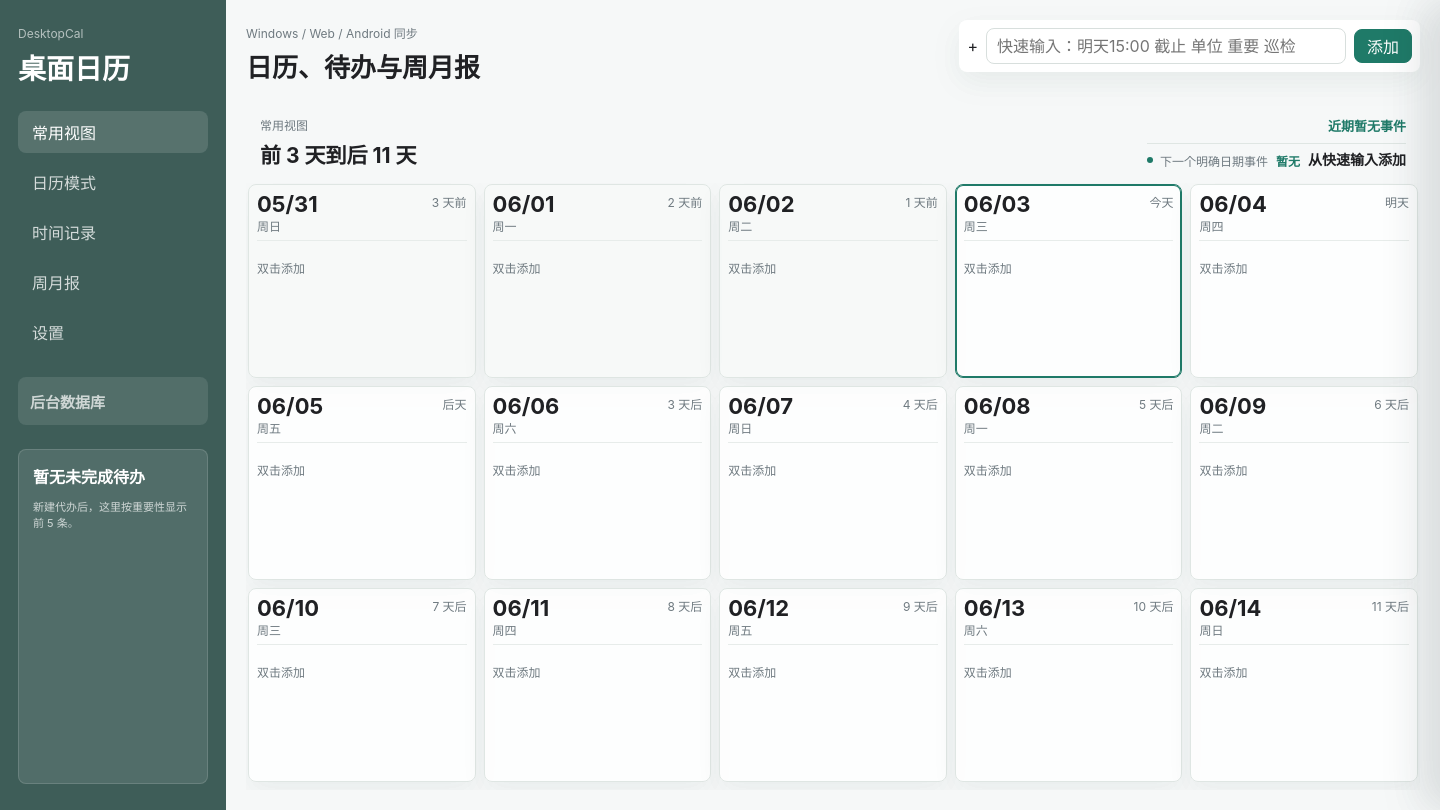
Test: App event interactions › parses compact weekday, afternoon time, kind, source, and importance locally
The width and height of the screenshot is (1440, 810).
Expected: the text "近期暂无事件" is shown, x1=1328 y1=116 x2=1406 y2=135
Type "下周五下午3点截止单位重要巡检材料" into the field named "Quick add title".
click(1166, 46); type("下周五下午3点截止单位重要巡检材料")  # box x1=986 y1=28 x2=1346 y2=64
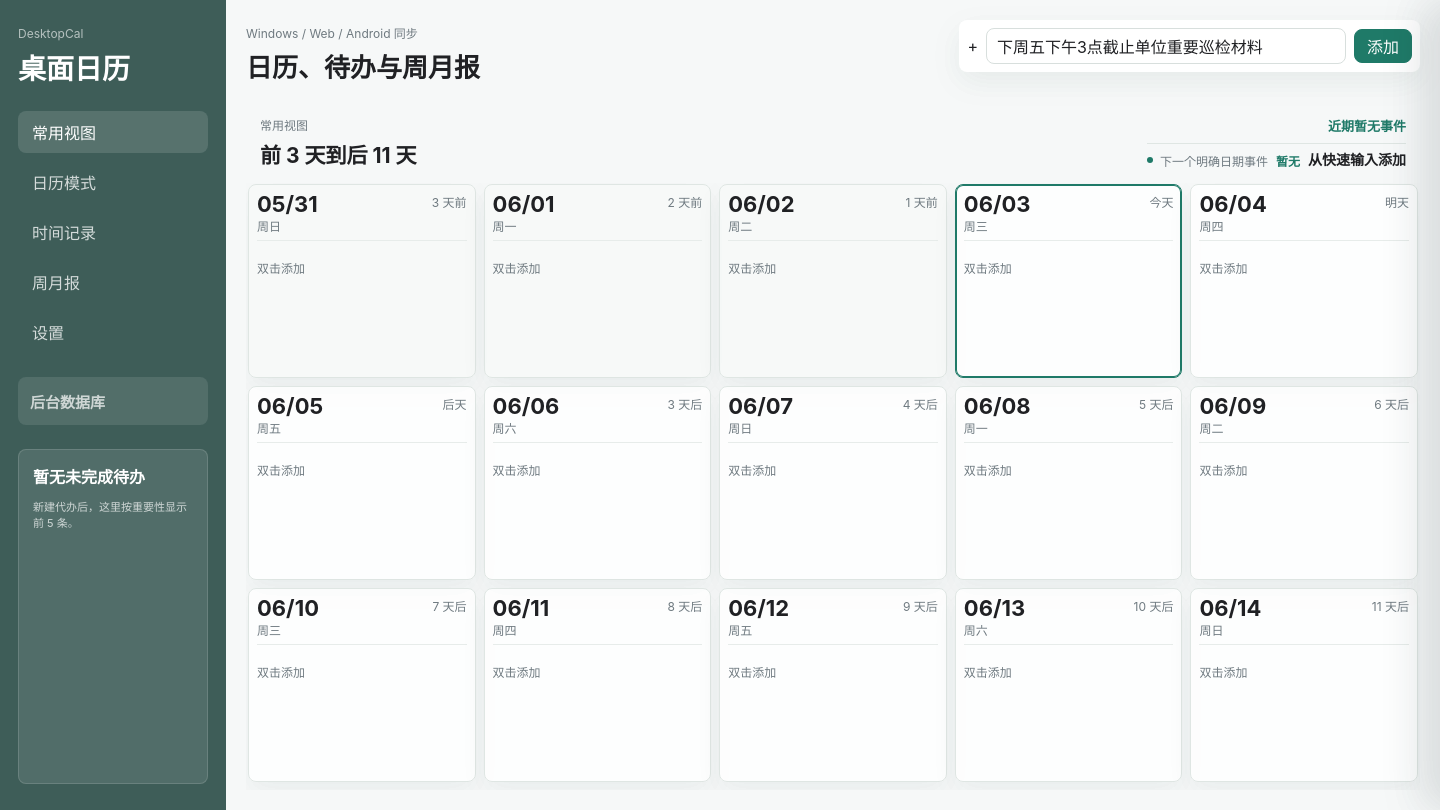
Click the button "添加".
click(1383, 46)  # box x1=1354 y1=29 x2=1412 y2=63
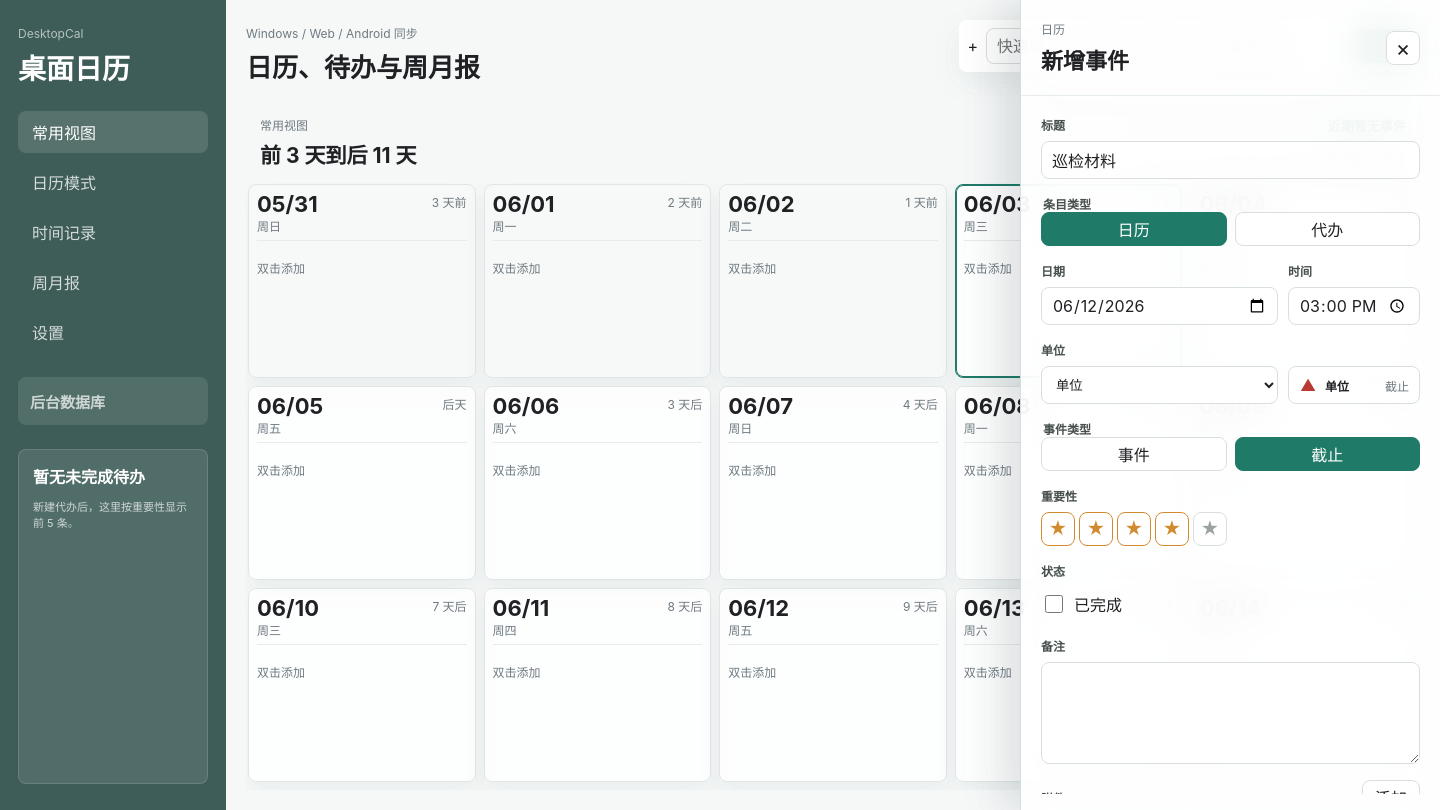
Expected: the heading "新增事件" is shown, x1=1041 y1=43 x2=1129 y2=75
Now the time field labelled "时间" holds "15:00", box x1=1288 y1=287 x2=1420 y2=325
Now the field labelled "标题" holds "巡检材料", box x1=1041 y1=141 x2=1420 y2=179
